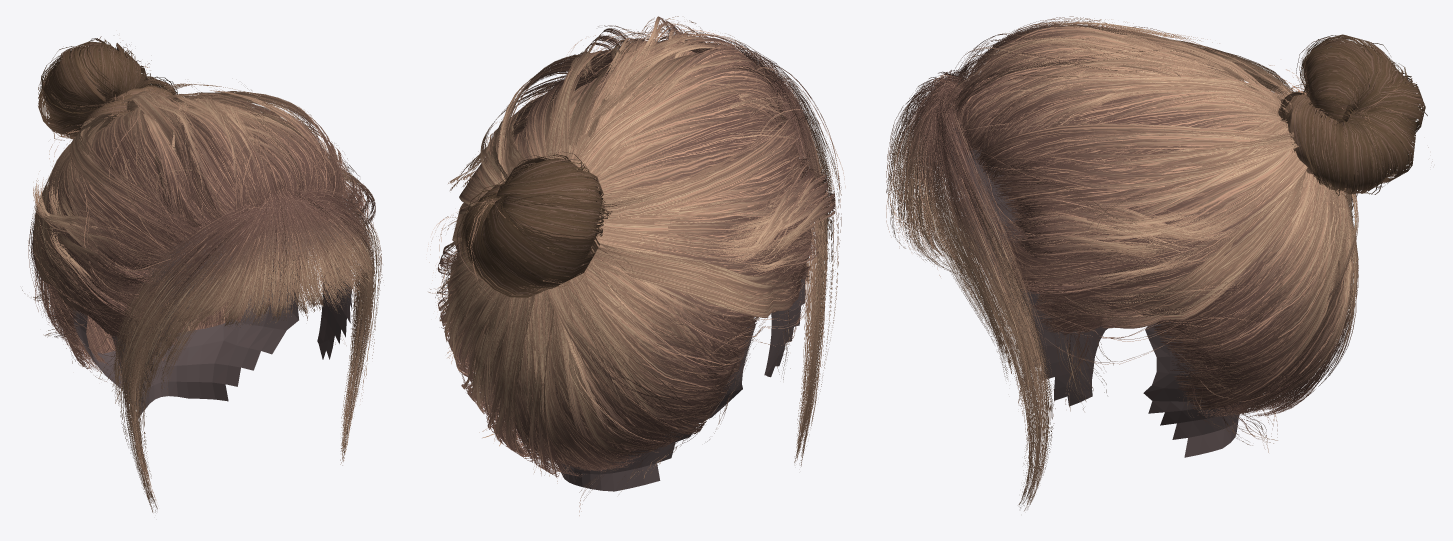
Rendered from HairGood1.fbx.
3 renders of one model, left to right at view 1: azimuth 30°, elevation 25°; view 2: azimuth 150°, elevation 25°; view 3: azimuth 270°, elevation 25°, orthographic. The views are drawn at different scales.
Visible parts, largest first — view 1: Messy_high, Baby_bangs, Space_bun_B; view 2: Messy_high, Space_bun_B, Baby_bangs; view 3: Messy_high, Baby_bangs, Space_bun_B.
Part boxes in pixels (x1=…): Messy_high: x1=22, y1=83, x2=375, y2=418; Baby_bangs: x1=113, y1=182, x2=383, y2=512; Space_bun_B: x1=38, y1=36, x2=177, y2=166; Messy_high: x1=428, y1=16, x2=835, y2=515; Space_bun_B: x1=457, y1=141, x2=635, y2=307; Baby_bangs: x1=686, y1=40, x2=845, y2=466; Messy_high: x1=940, y1=16, x2=1358, y2=457; Baby_bangs: x1=886, y1=69, x2=1055, y2=510; Space_bun_B: x1=1255, y1=34, x2=1432, y2=198.
Size of the model in its own units: 19.69 by 25.38 by 27.98.
